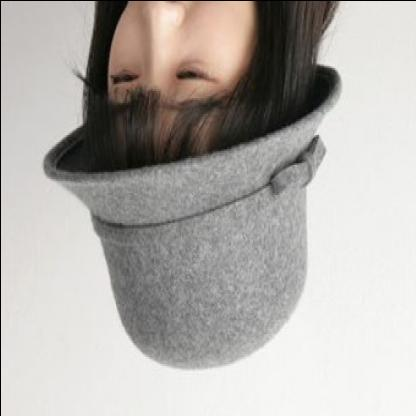hat: (37, 58, 350, 374)
